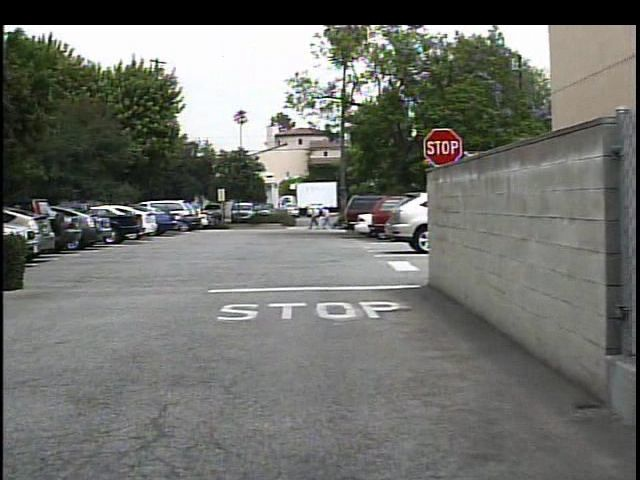person: (304, 206, 318, 233), (318, 206, 332, 233)
